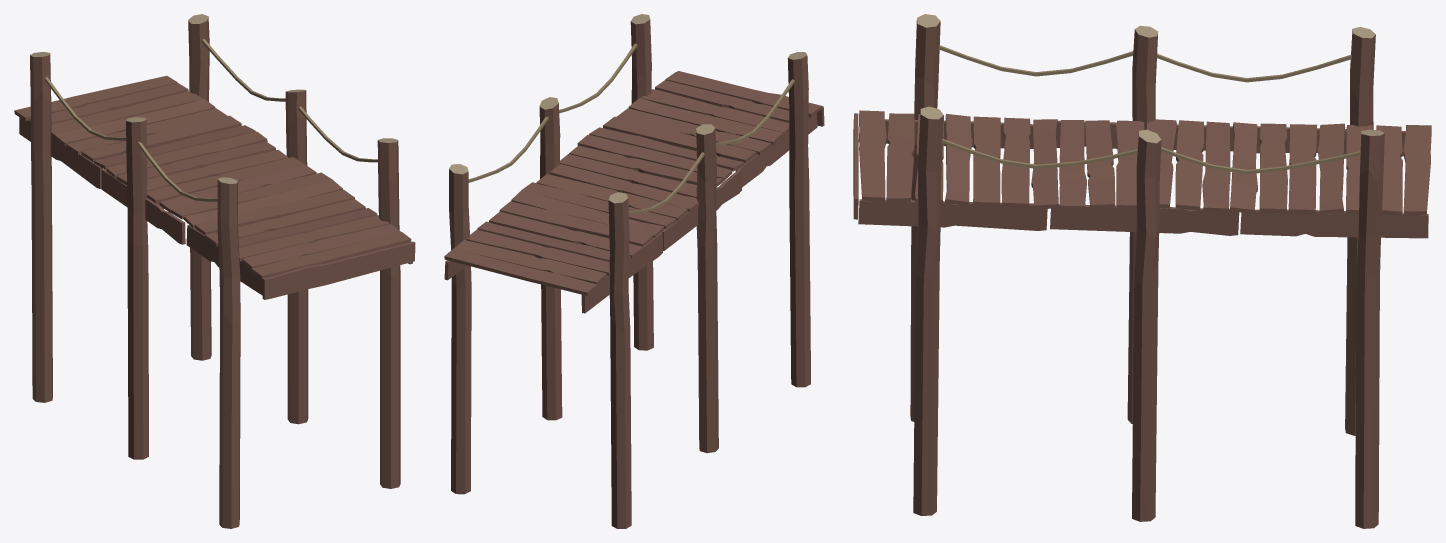
File: Dock_Long2.fbx
3 renders of one model, left to right at view 1: azimuth 30°, elevation 25°; view 2: azimuth 150°, elevation 25°; view 3: azimuth 270°, elevation 25°, orthographic. The views are drawn at different scales.
Visible parts, largest first — view 1: Dock_Long; view 2: Dock_Long; view 3: Dock_Long.
Boxes of the visible parts, x1,y1,x2,y2 form: Dock_Long: [14, 14, 415, 528]; Dock_Long: [444, 14, 824, 528]; Dock_Long: [853, 14, 1431, 528].
Bounding box in the file's own units: 922 × 1712 × 2171.
